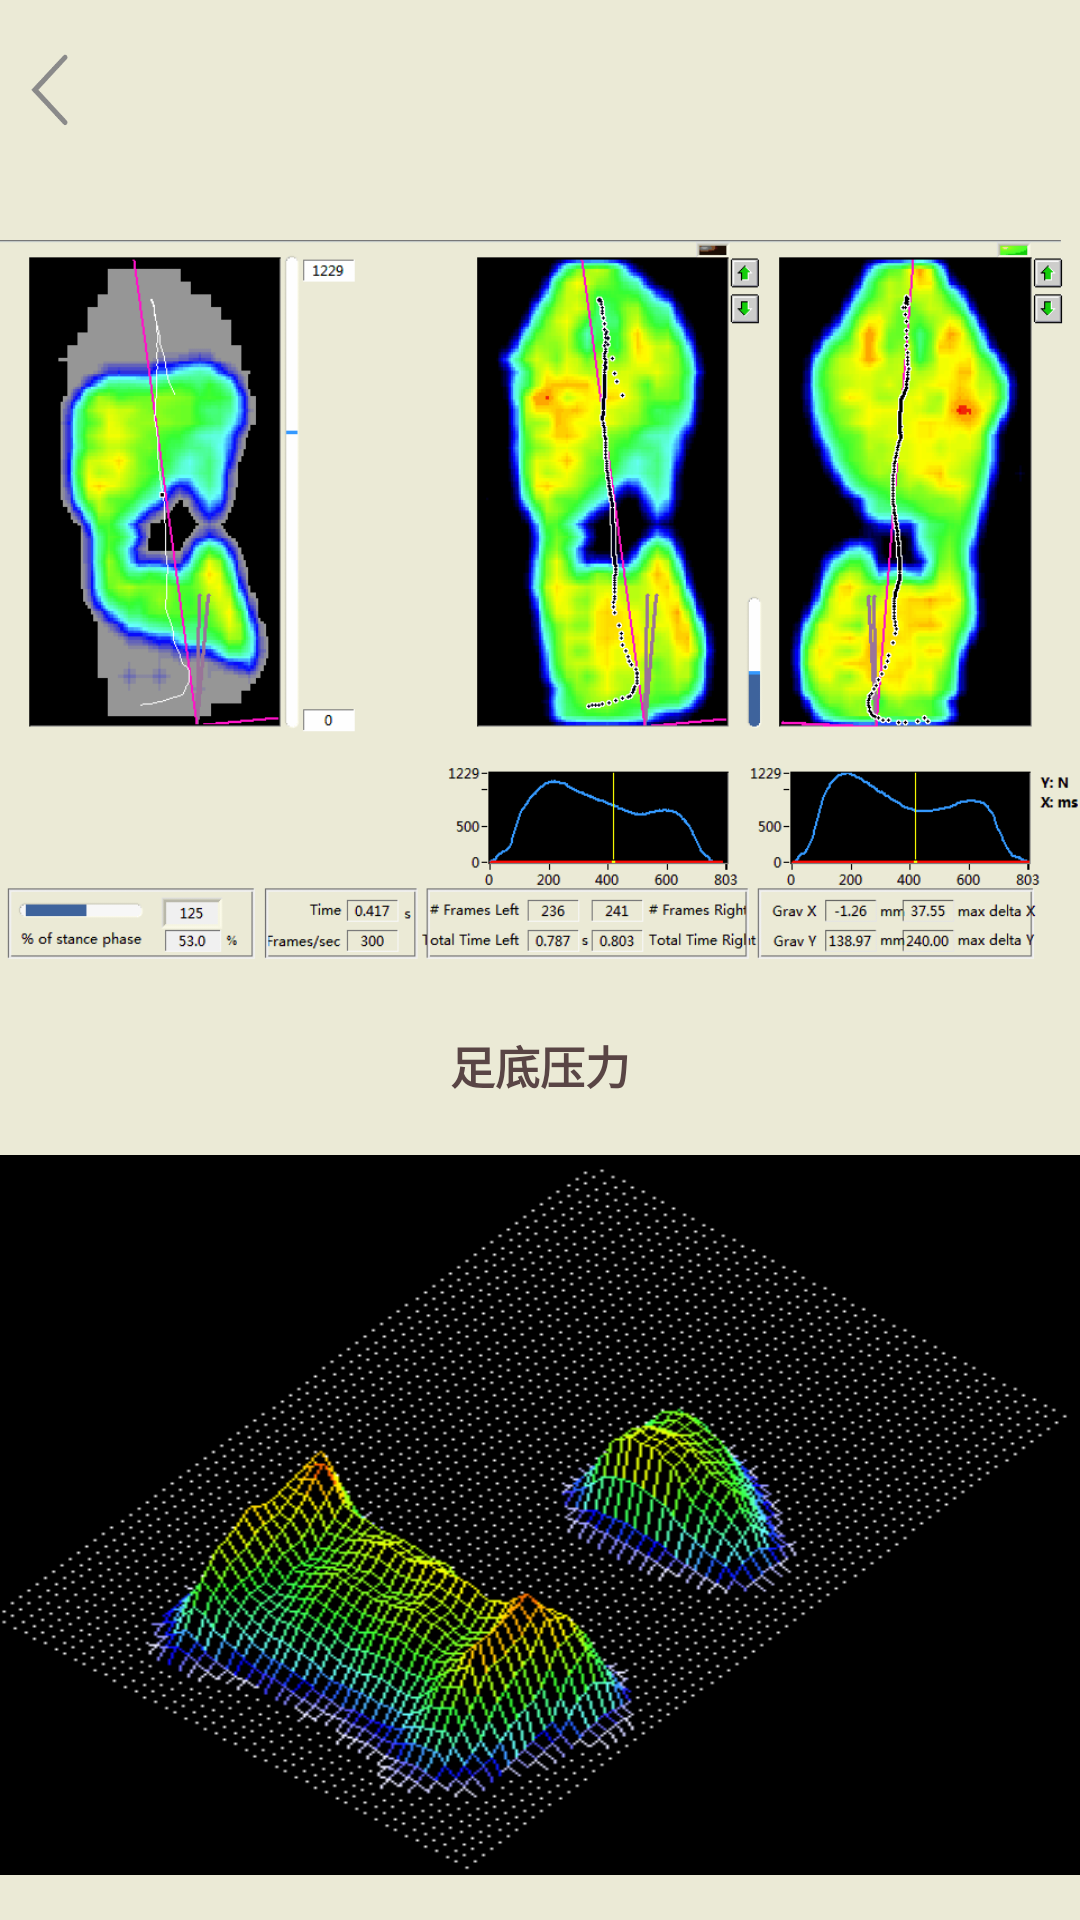

Screen size 1080*1920. Icon name, then its center in pixels as (x=x, y=y):
leftback: (x=49, y=90)
